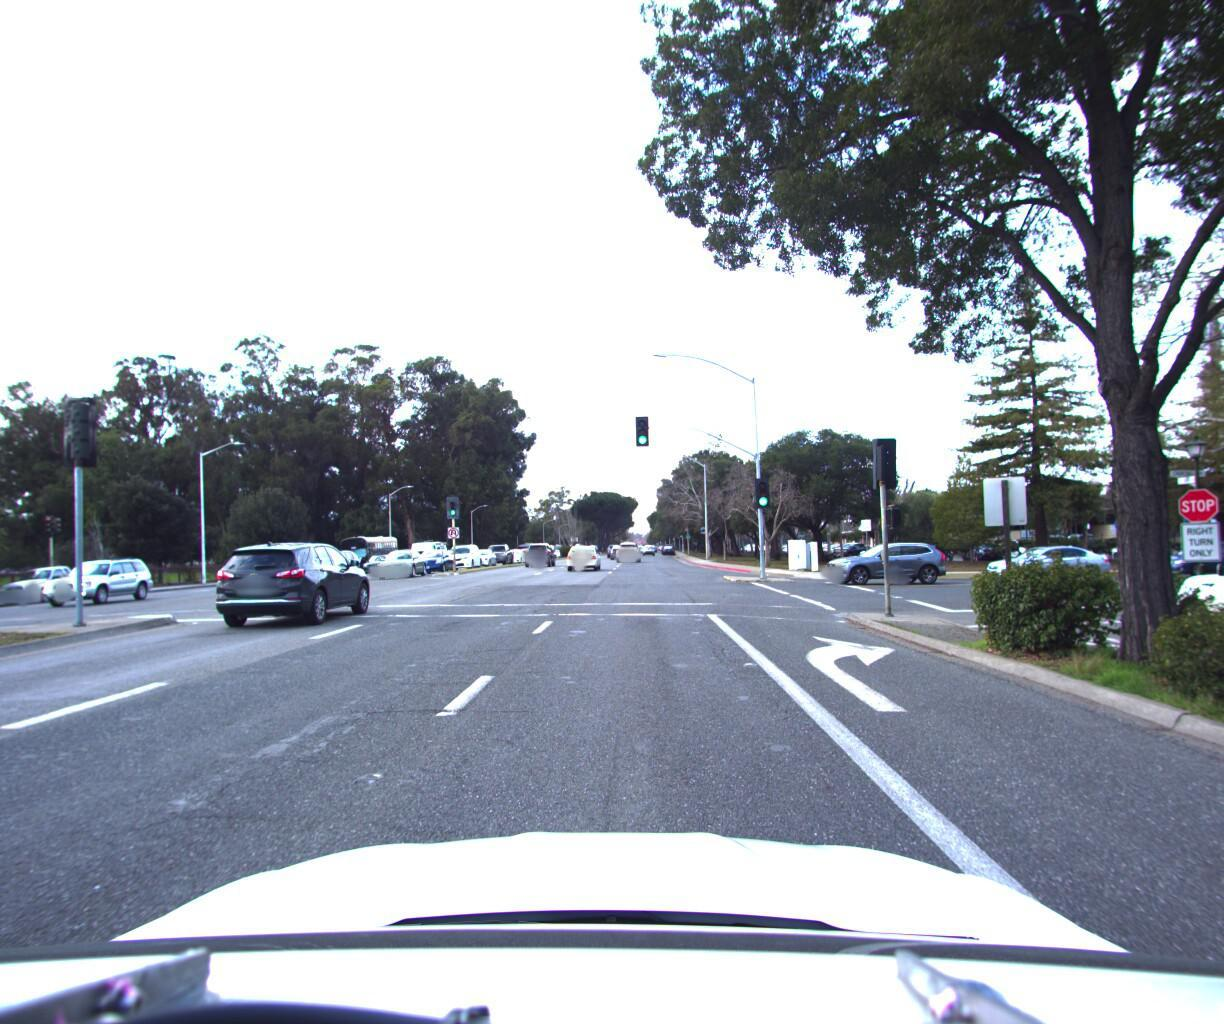bus: (342, 527, 404, 569)
car: (209, 538, 381, 628), (1145, 521, 1224, 685), (28, 554, 166, 607), (814, 533, 947, 581), (969, 535, 1113, 579), (0, 561, 107, 604), (1133, 531, 1224, 573), (373, 542, 430, 575), (439, 537, 483, 565), (566, 533, 603, 566), (412, 542, 456, 568), (523, 536, 557, 562), (360, 547, 400, 568), (479, 537, 514, 560), (463, 542, 497, 562), (613, 536, 639, 557), (499, 542, 526, 558)
